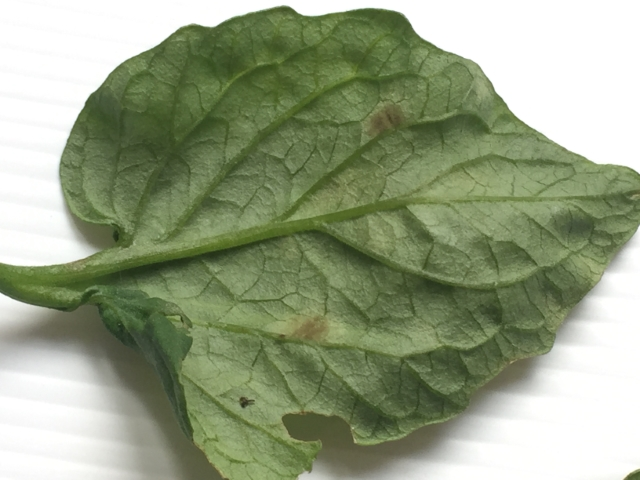cladosporium: (288, 311, 332, 354), (367, 101, 409, 138)
